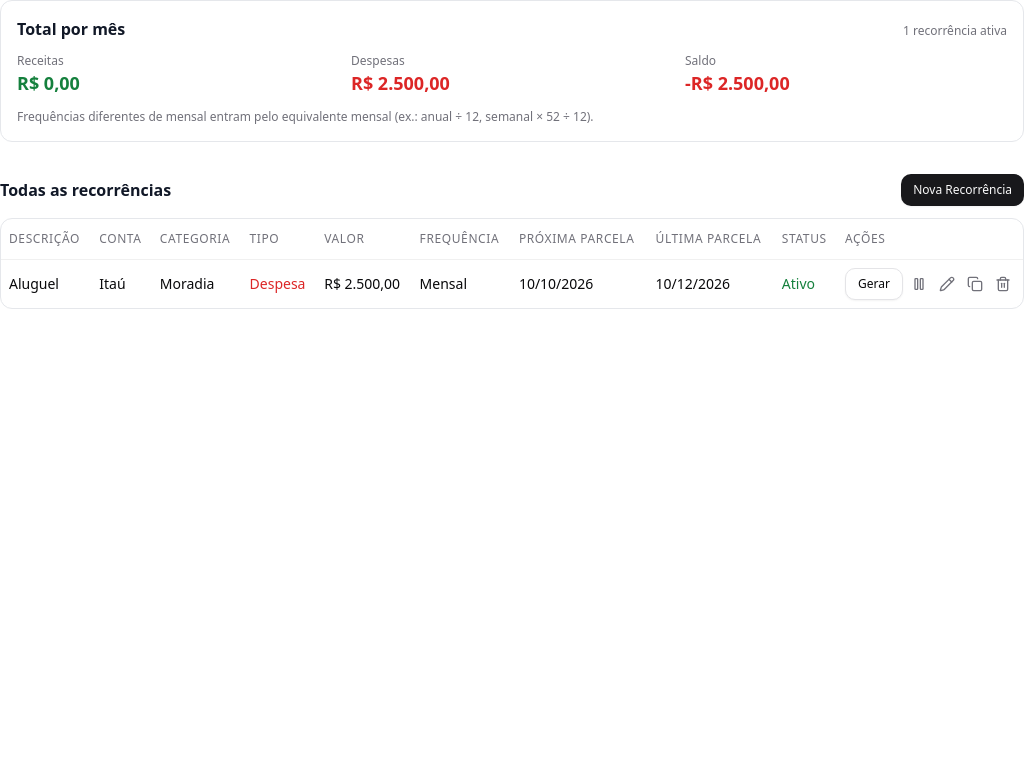
Test: clonar recorrência › abre o popup de nova recorrência preenchido com os dados da original
What coordinates should you click on to do the following:
click the button titled "Clonar"
I would click on:
 (975, 284)
Its box is [963,272,987,296].
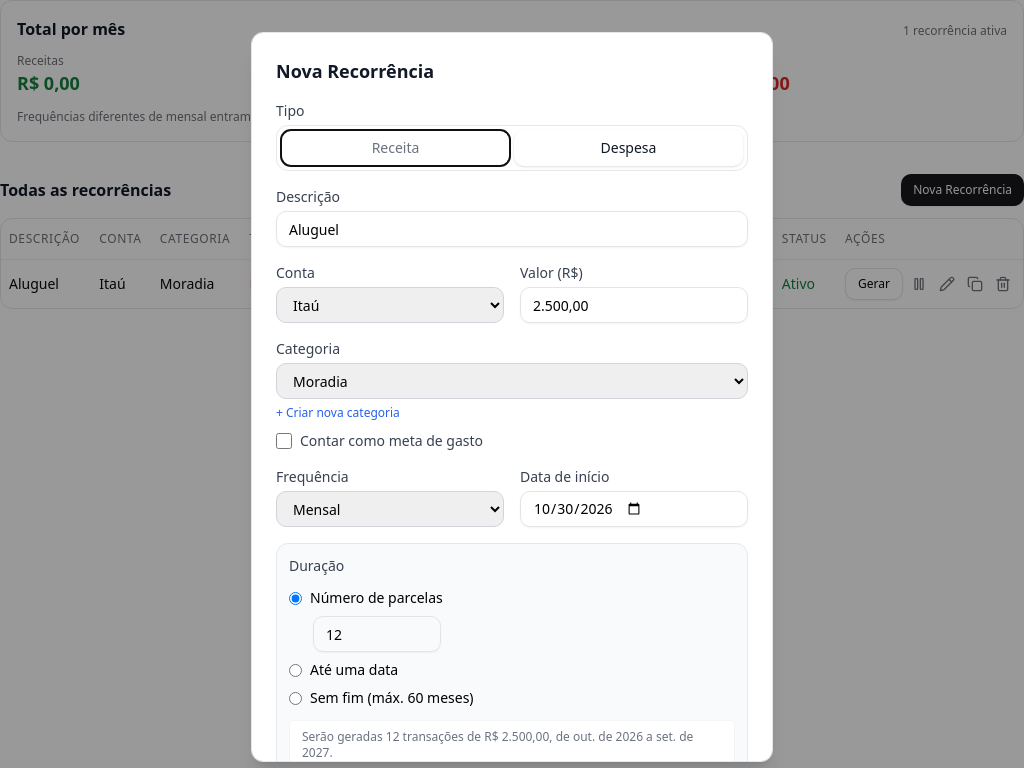
Check: the dialog is shown, box [251,32,773,762]
Check: the heading reads "Nova Recorrência", box [276,59,434,83]
Check: the field showing "Aluguel" is shown, box [276,211,748,247]
